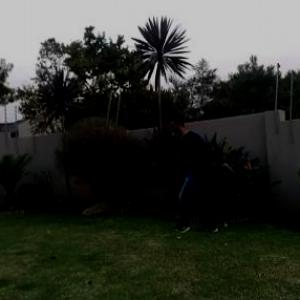land: (132, 100, 257, 252)
